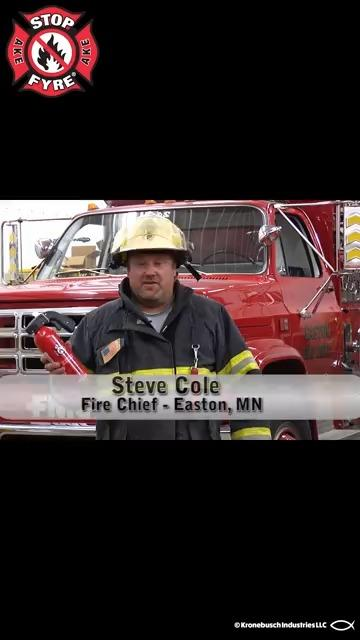not: (210, 190, 360, 387), (0, 192, 132, 313), (20, 310, 109, 397), (0, 355, 32, 432)
